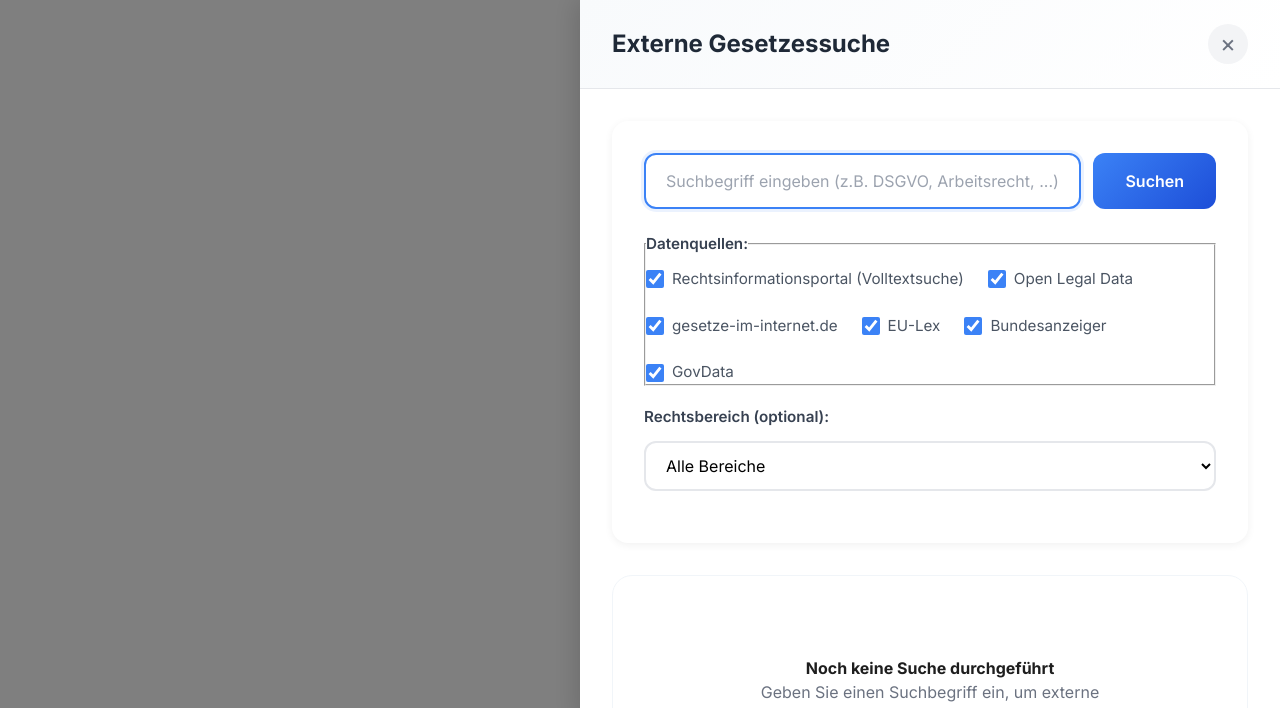
Test case: SearchSidebar › Search › displays search results
Step 1. Type "DSGVO" into the field with placeholder "Suchbegriff eingeben (z.B. DSGVO, Arbeitsrecht, ...)" → (863, 181), box [644, 153, 1081, 209]
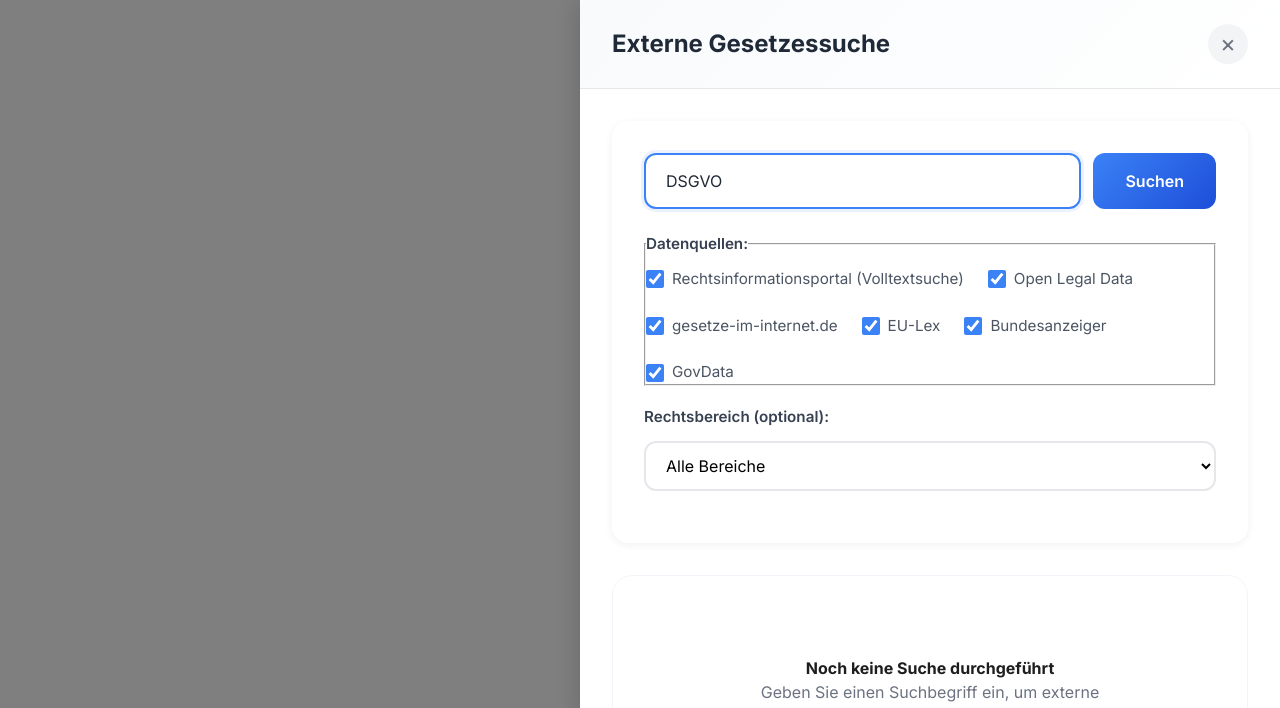
Step 2. Click the button "Suchen" → (1155, 181), box [1093, 153, 1216, 209]
(page scrolled)
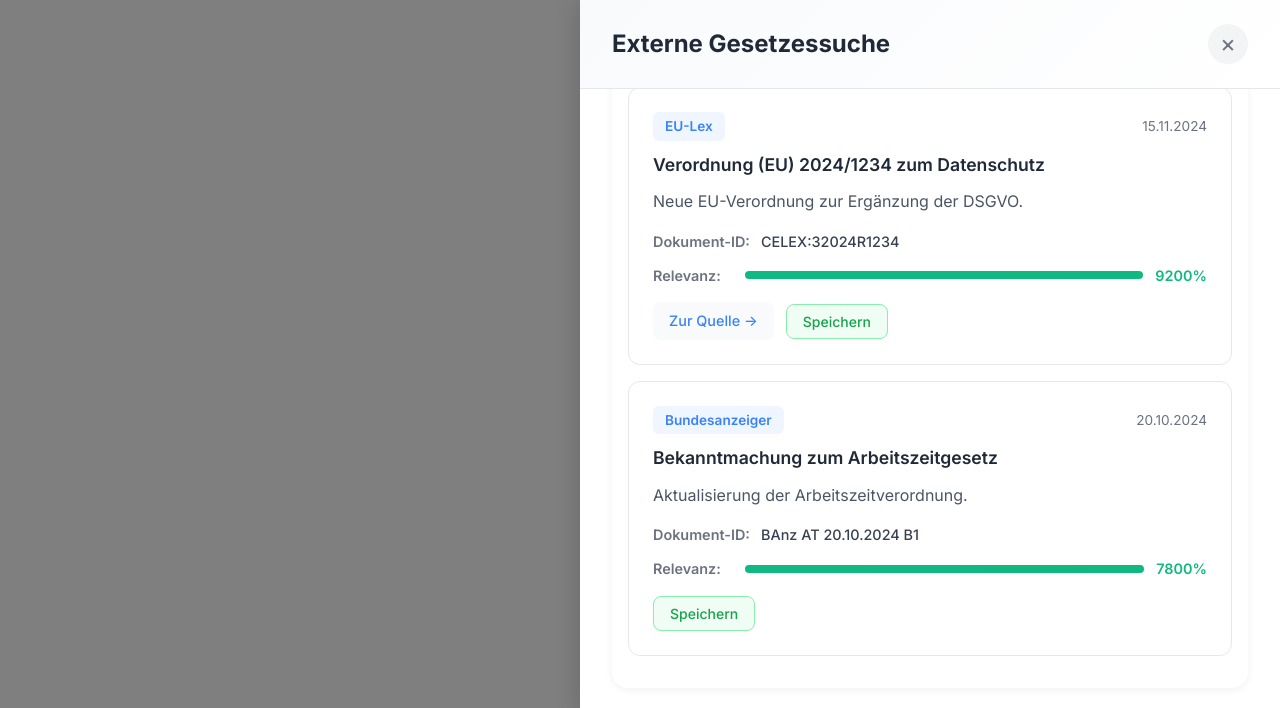
Expected: the heading "Verordnung (EU) 2024/1234 zum Datenschutz" is shown, [653, 154, 1045, 175]
Expected: the heading "Bekanntmachung zum Arbeitszeitgesetz" is shown, [653, 447, 998, 468]
